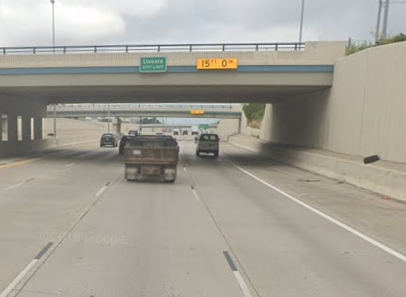0: (220, 58, 228, 68)
1: (199, 58, 205, 68)
5: (203, 57, 210, 69)
overheadsign: (196, 57, 237, 70)
